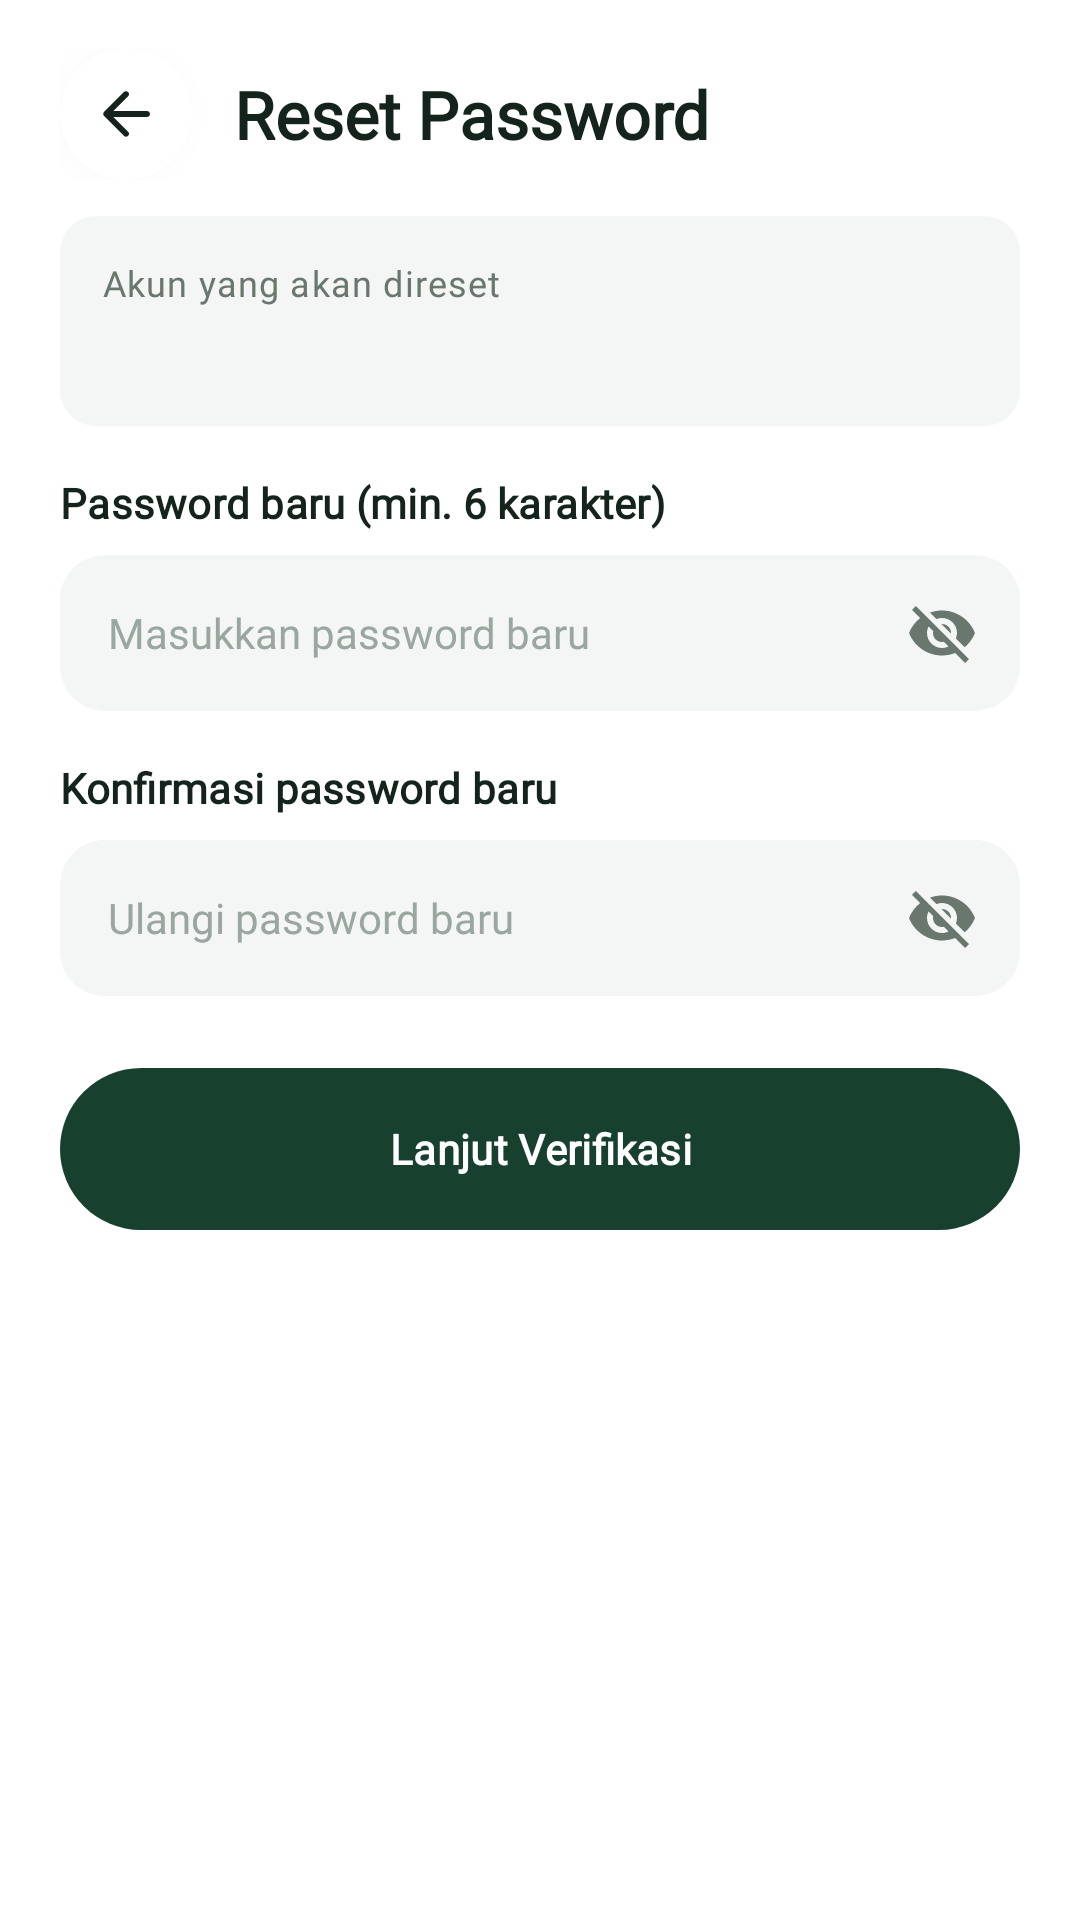

Point at icon controls on the screen. Image size 1080*1920, points as [x,y].
visibility off: [942,634], [942,919]
